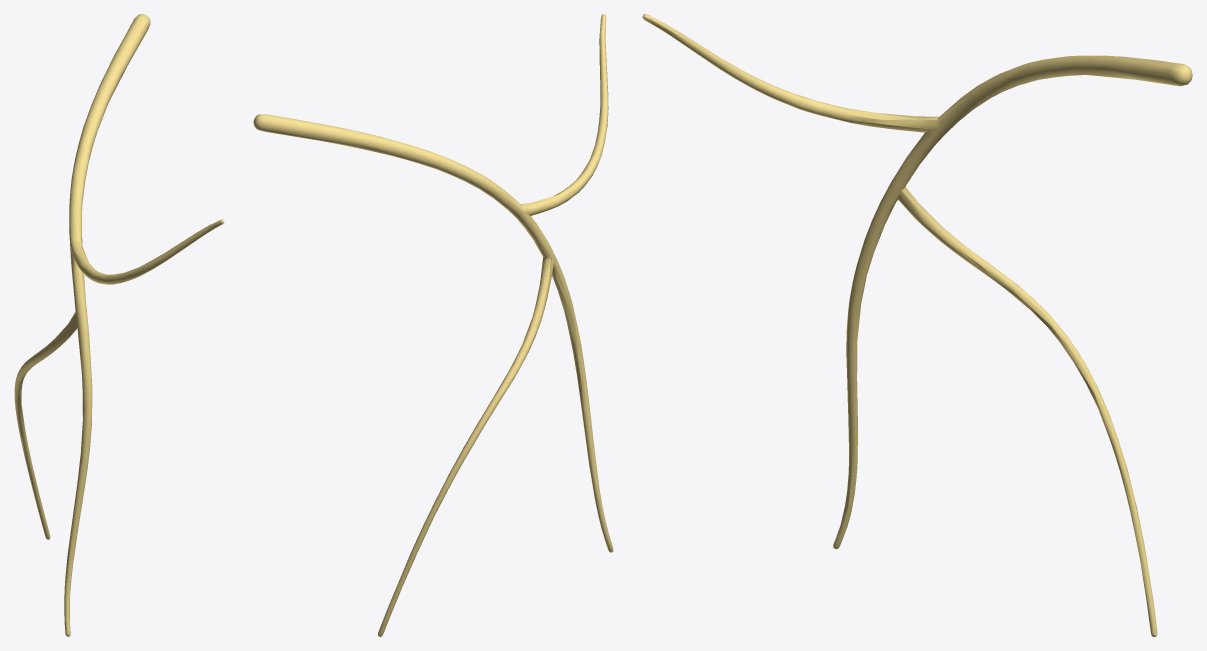
Rendered from fma53104_fj3987.glb.
3 views of the same model, side by side, from view 1: azimuth 30°, elevation 25°; view 2: azimuth 150°, elevation 25°; view 3: azimuth 270°, elevation 25° (orthographic). The views are drawn at different scales.
Visible parts, largest first — view 1: FMA53104_FJ3987; view 2: FMA53104_FJ3987; view 3: FMA53104_FJ3987.
Part boxes in pixels (x1,y1,x2,y2): FMA53104_FJ3987: (14,14,224,636); FMA53104_FJ3987: (253,14,613,636); FMA53104_FJ3987: (642,14,1192,636).
Size of the model in its own units: 0.0139 by 0.0302 by 0.0236.
